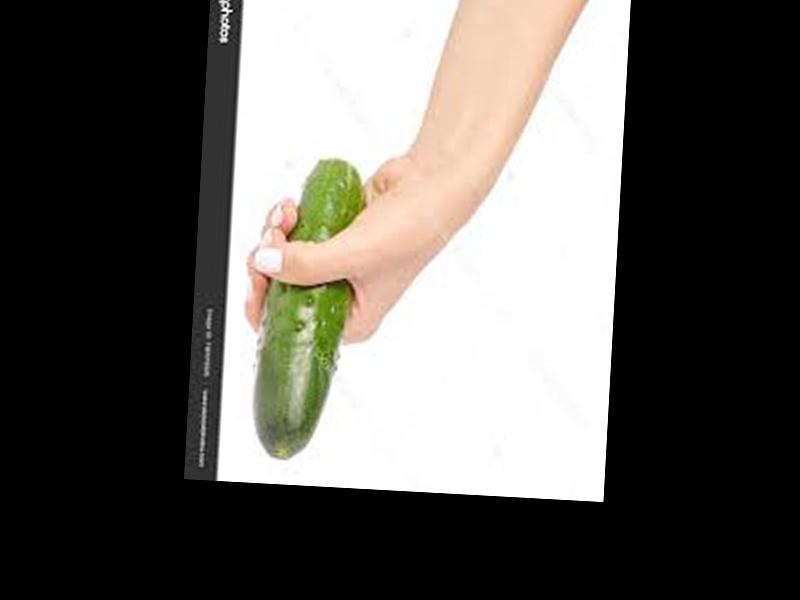Cucumber: (249, 156, 367, 464)
